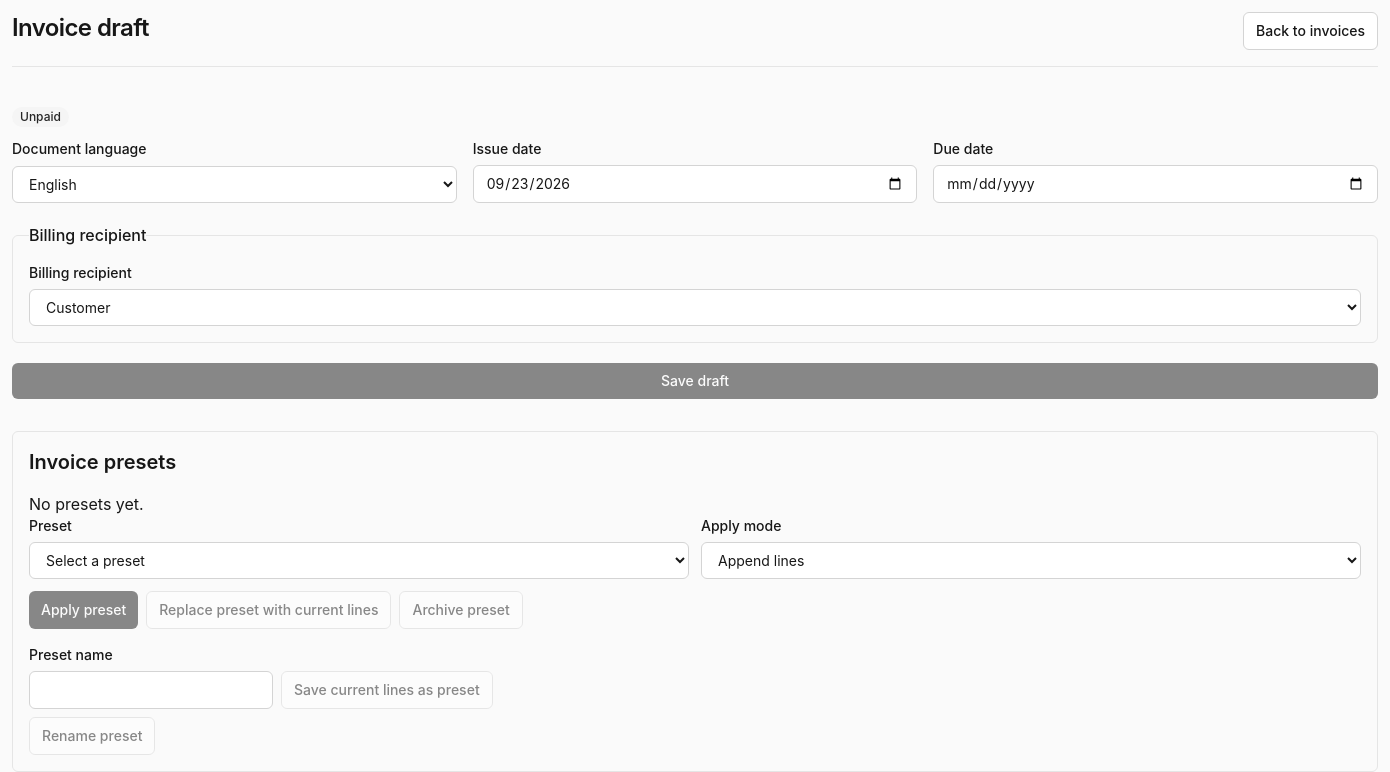
Scenario: draft invoice page › offers reload after a stale version without overwriting
This screenshot has width=1390, height=772.
Type "2026-10-01" into the date field labelled "Due date" at (1156, 184), box x1=933 y1=165 x2=1378 y2=203
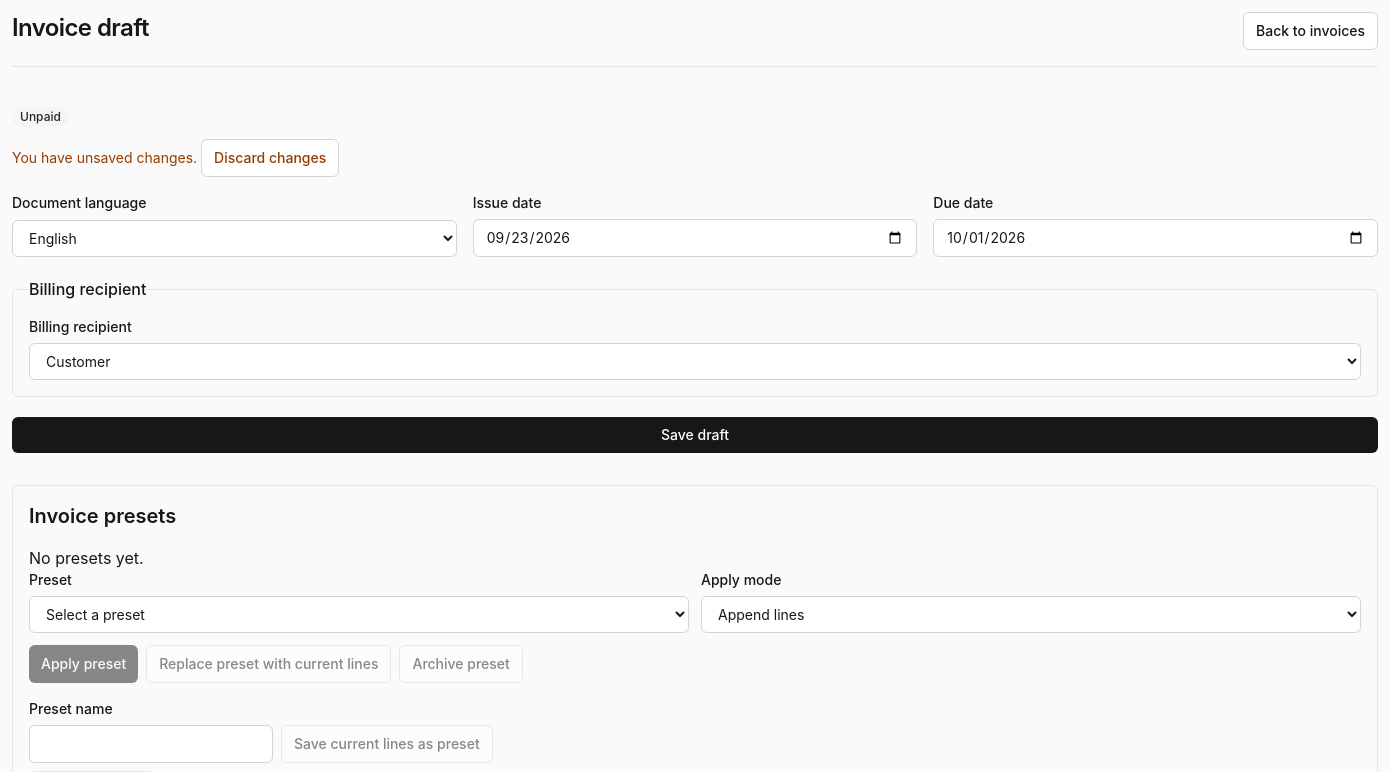
Click the button "Save draft" at (695, 435), box x1=12 y1=417 x2=1378 y2=453
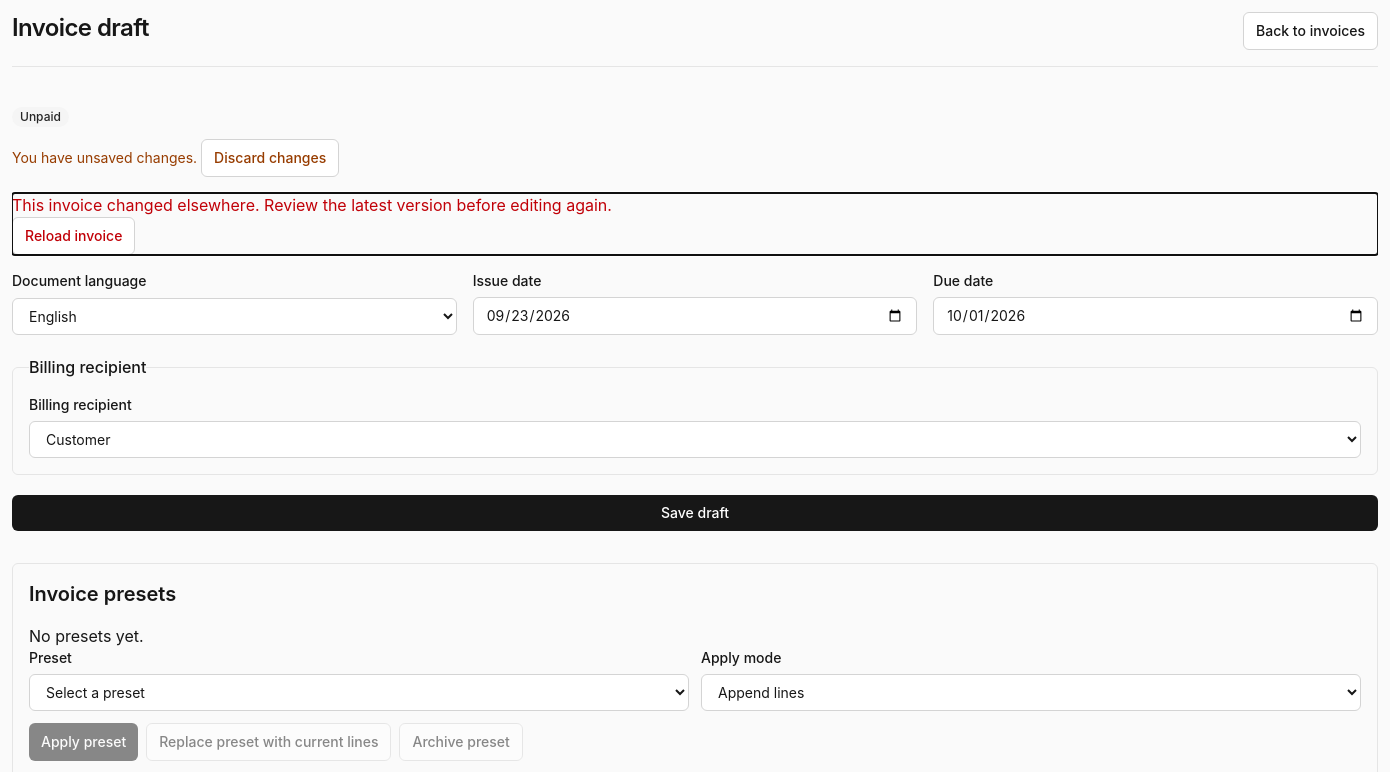
Check: the button "Reload invoice" is shown, box x1=12 y1=217 x2=135 y2=255
